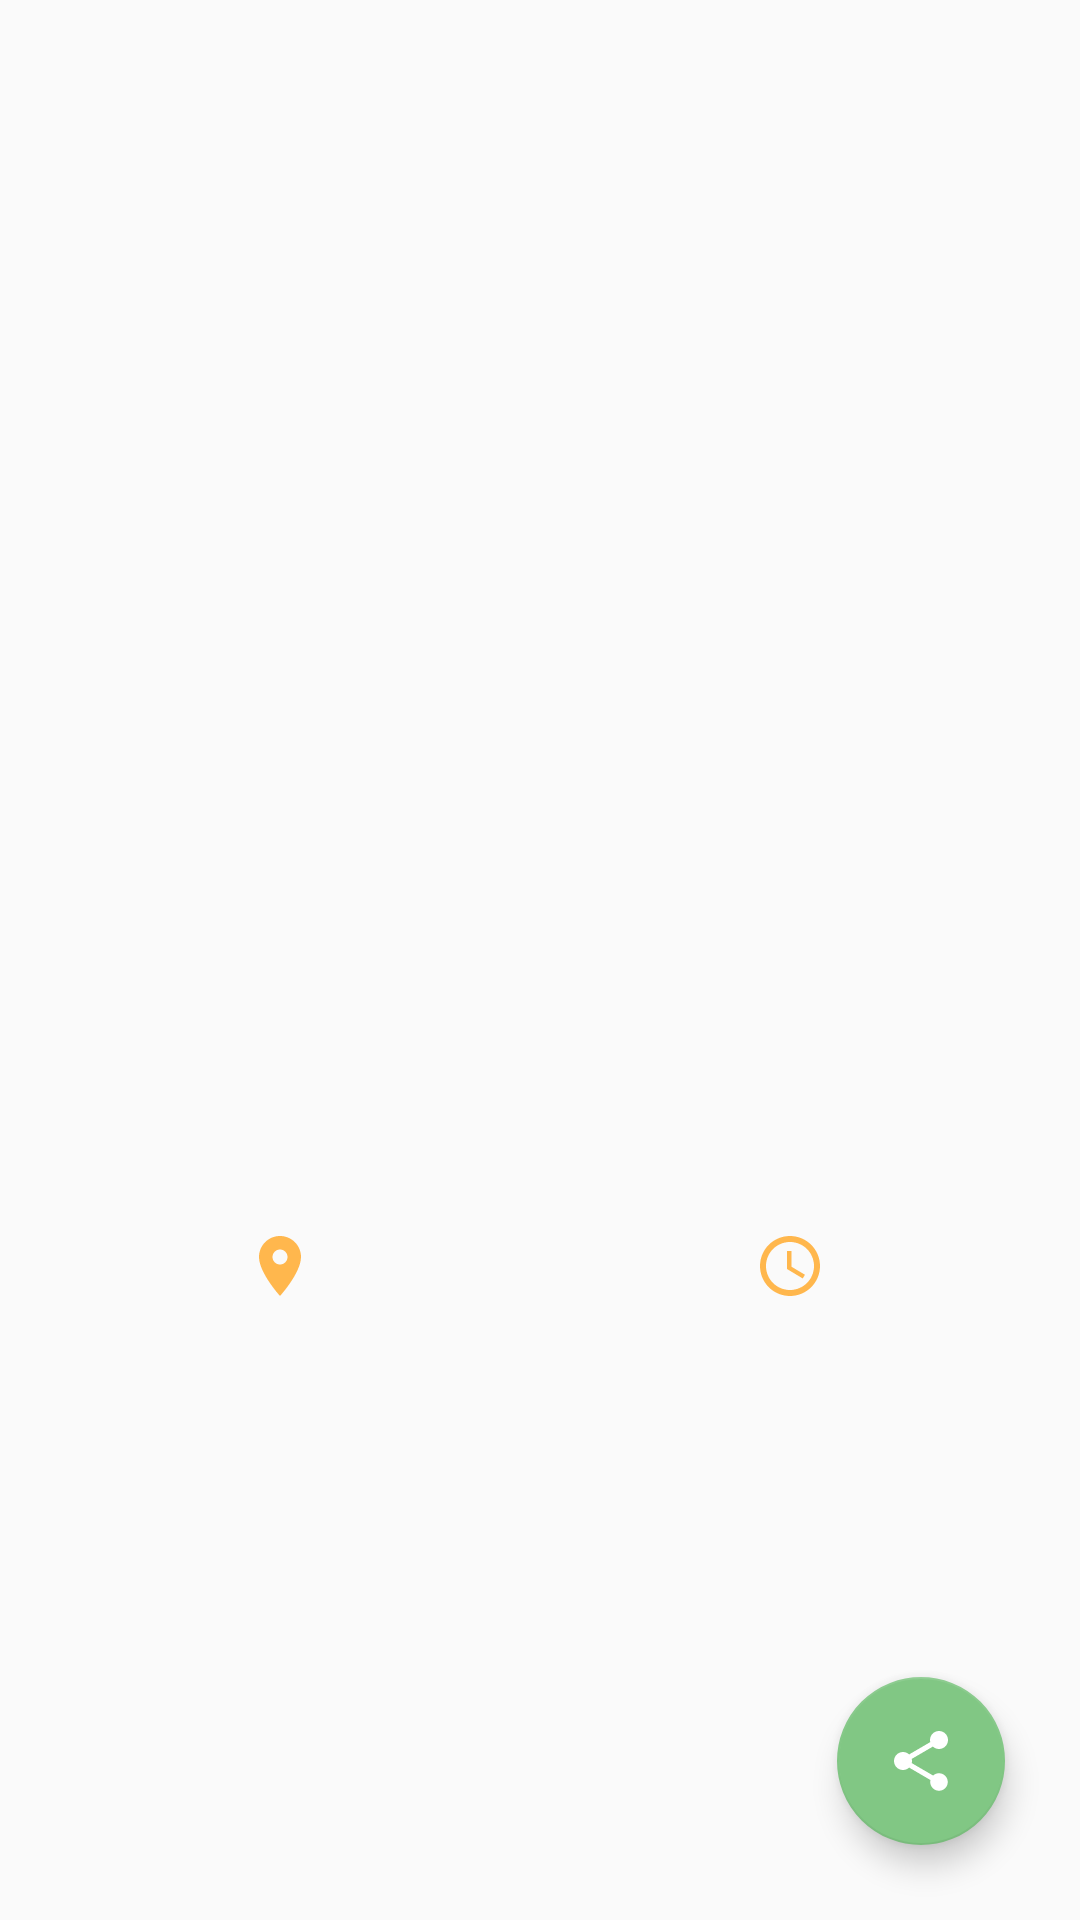

Locate icon controls on the screen. Image size 1080px×1920px, boxes as bbox=[x1, y1, x2, y2].
place: bbox=[259, 1236, 301, 1296]
query builder: bbox=[760, 1236, 820, 1296]
share: bbox=[837, 1677, 1005, 1845]
